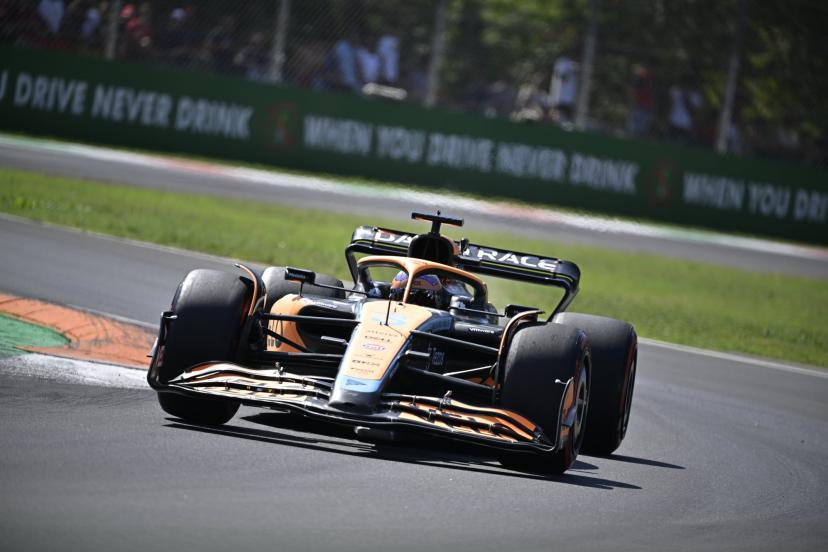Formule 1: (152, 229, 634, 471)
